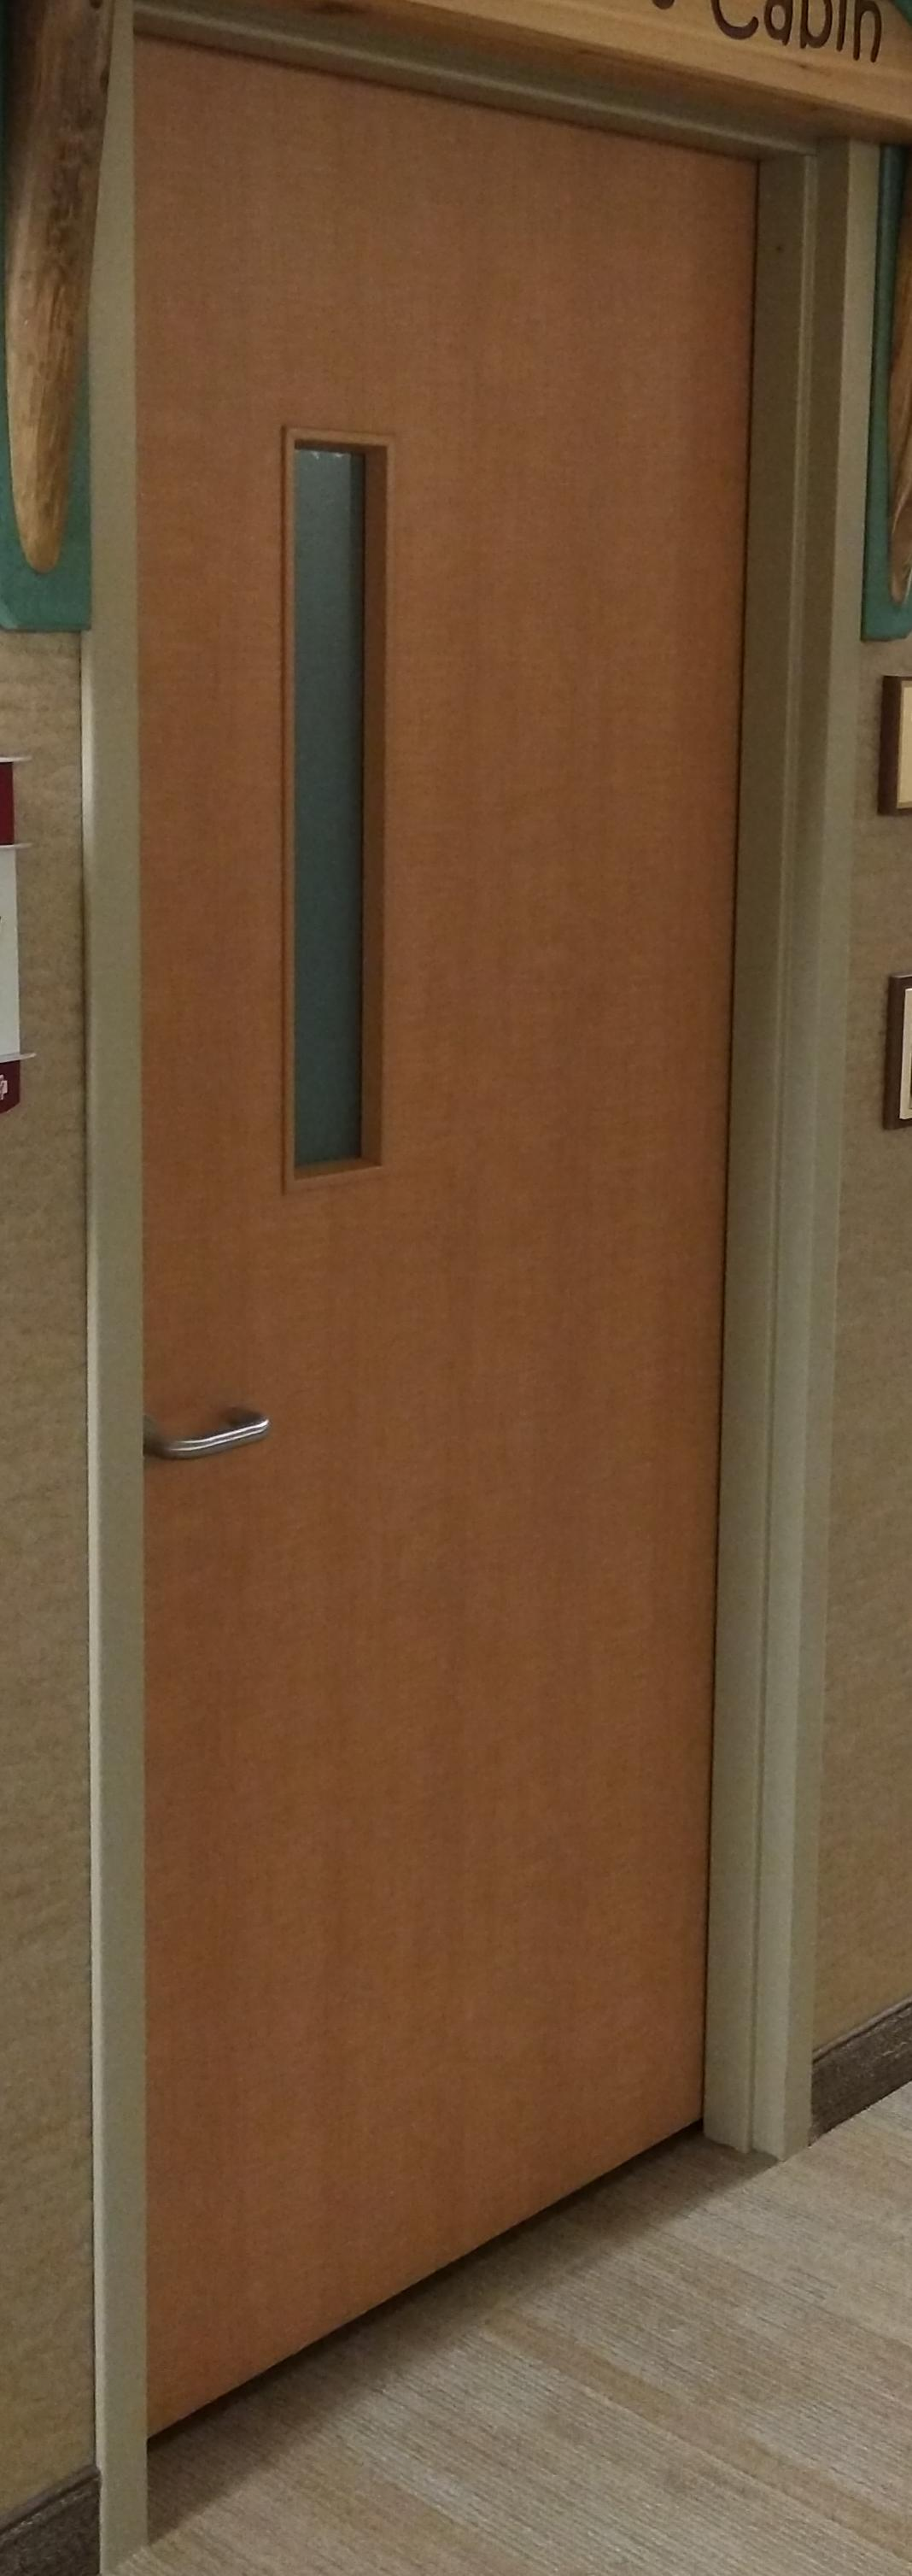door: (97, 2, 840, 2535)
